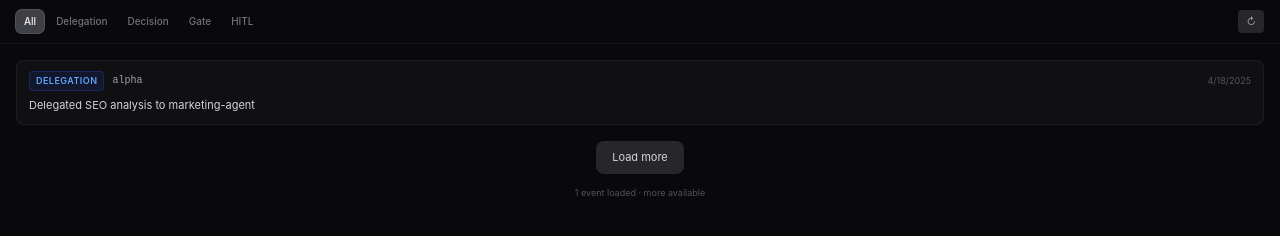
Test case: AuditTrailPanel — pagination › appends entries and updates cursor when 'Load more' is clicked
This screenshot has width=1280, height=236.
Expected: the text "alpha" is shown, [112,75,142,86]
Expected: the text "beta" is not shown
Click the button "Load more": [640, 158] box [596,141,684,174]
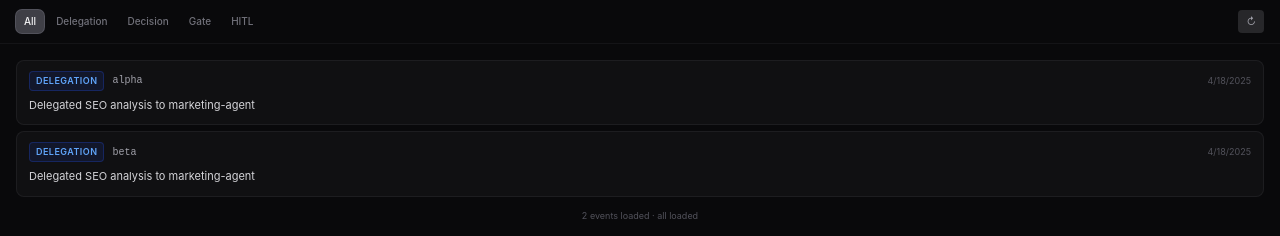
Expected: the text "alpha" is shown, [112,75,142,86]
Now the text "beta" is shown, box [112,147,136,158]
Now the button "Load more" is gone
